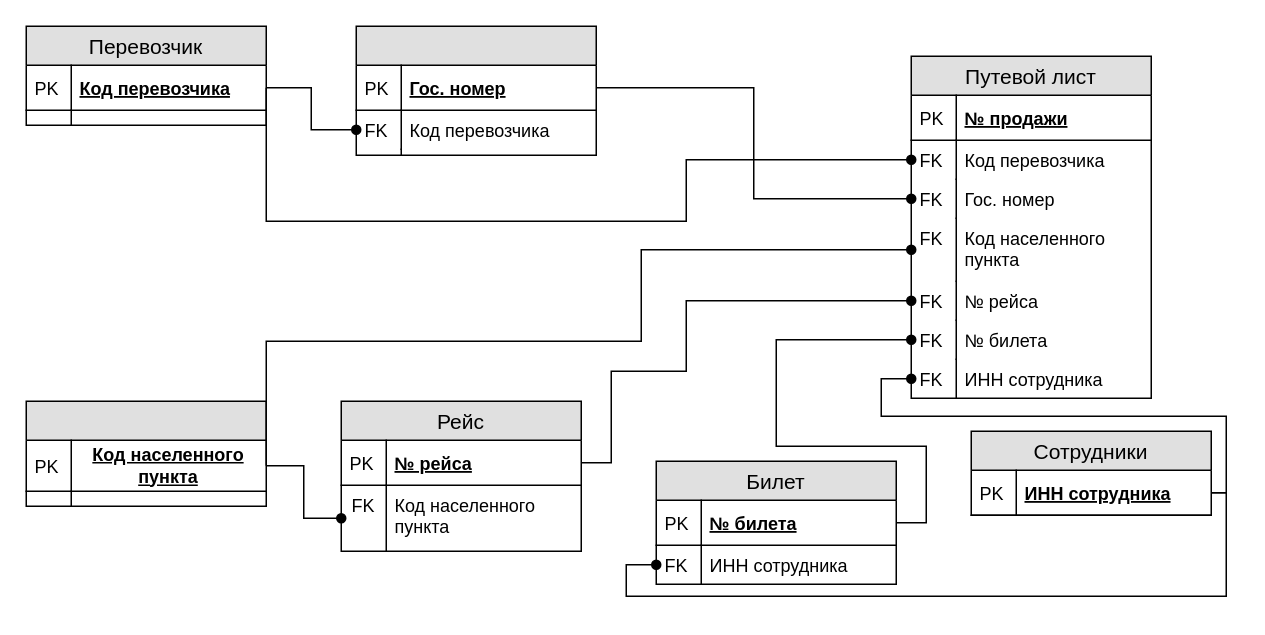
This 1265x635 diagram has some shape labels left out. Each missing label, with the box of its shape:
Автобус: (355, 25, 596, 155)
Населенные пункты: (25, 400, 266, 506)
